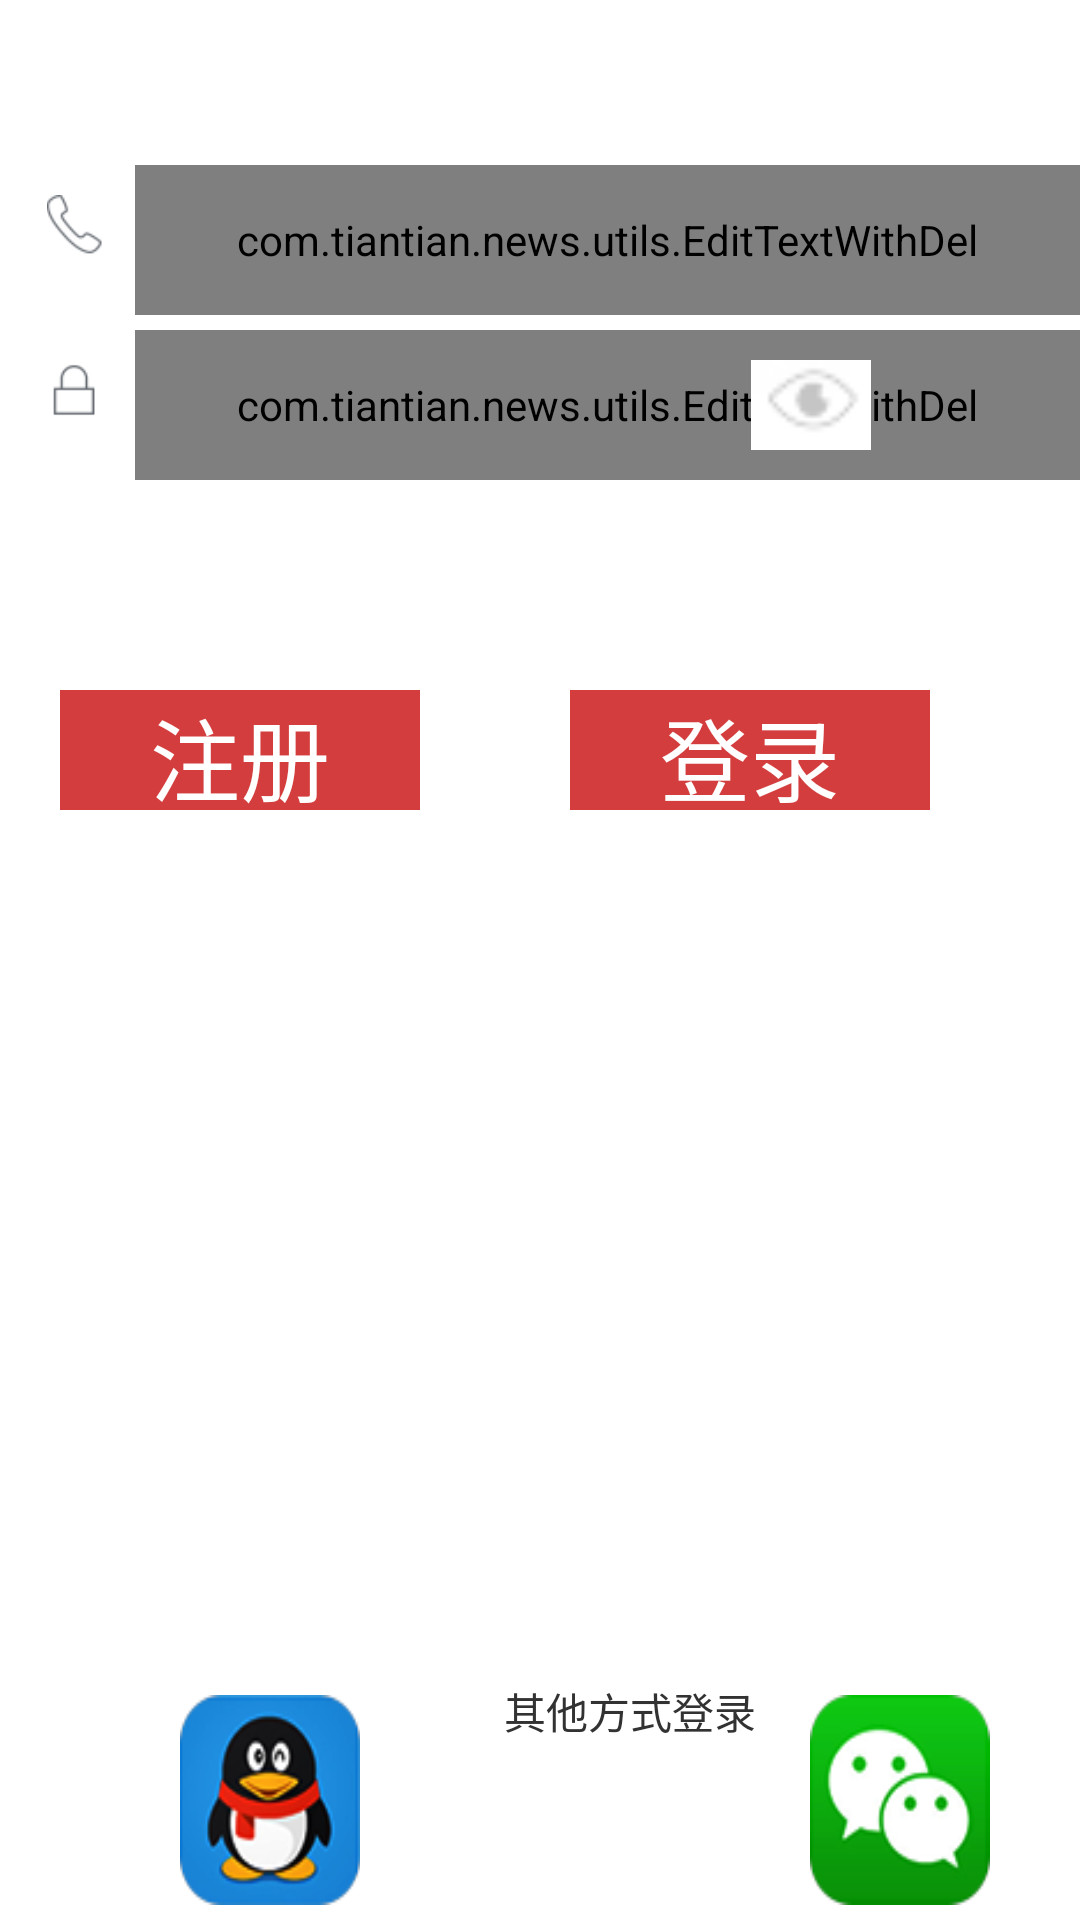

Named icons in this screenshot (1080×1920) and their bounding boxes, (x1, y1, x2, y2):
cinema password: (53, 365, 95, 415)
cinema phone: (47, 195, 102, 254)
